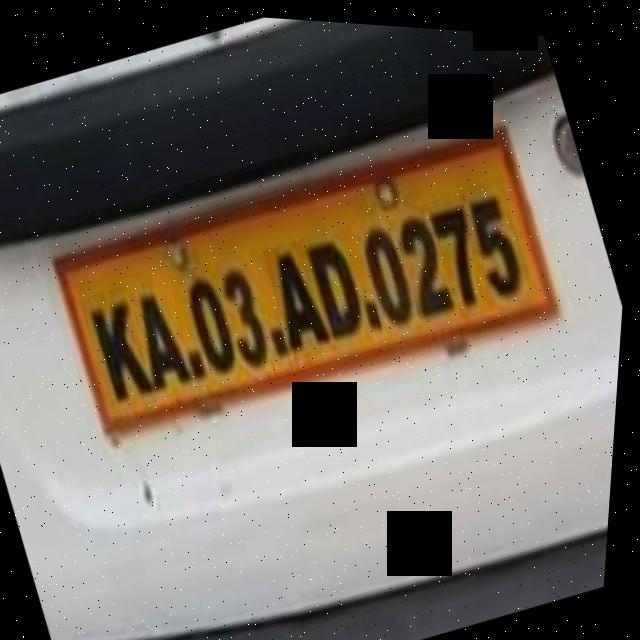0: (346, 194, 435, 332), (172, 257, 257, 389)
3: (208, 243, 296, 380)
5: (456, 167, 547, 307)
7: (424, 189, 506, 314)
A: (120, 263, 214, 405), (260, 232, 347, 360)
D: (300, 221, 391, 349)
K: (76, 282, 168, 415)
